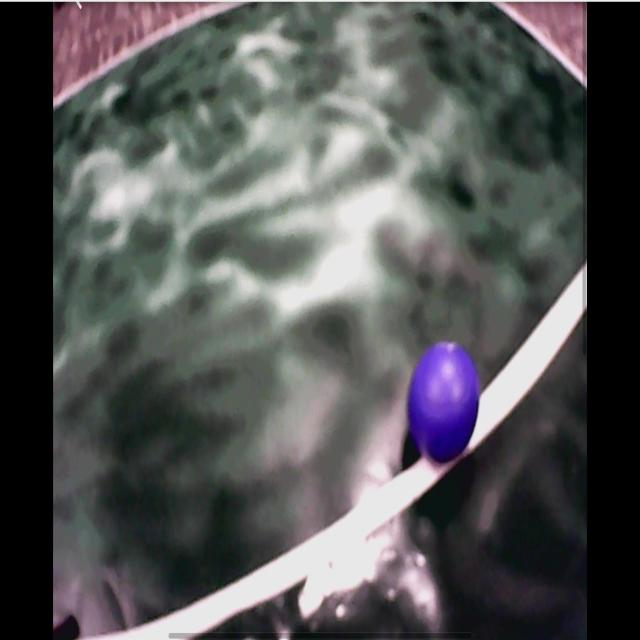ball: (410, 344, 478, 462)
